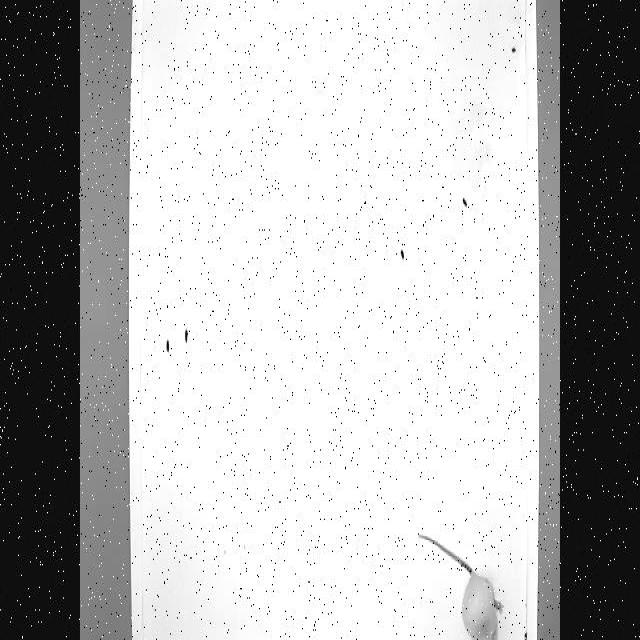rat: (414, 529, 504, 640)
